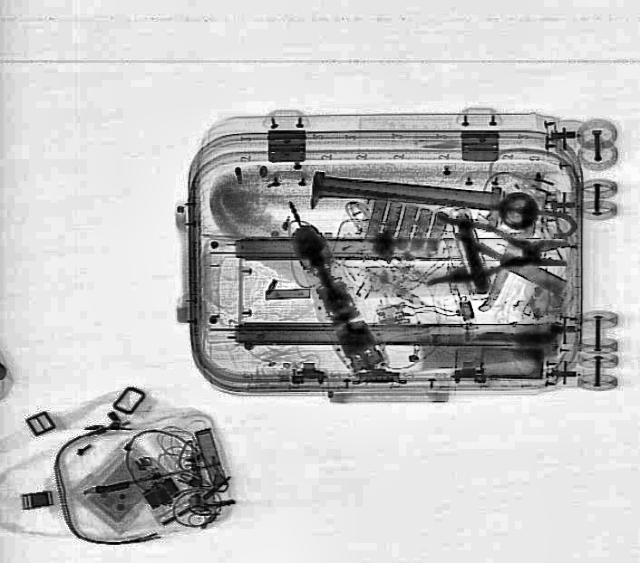Pliers: (428, 212, 570, 288)
